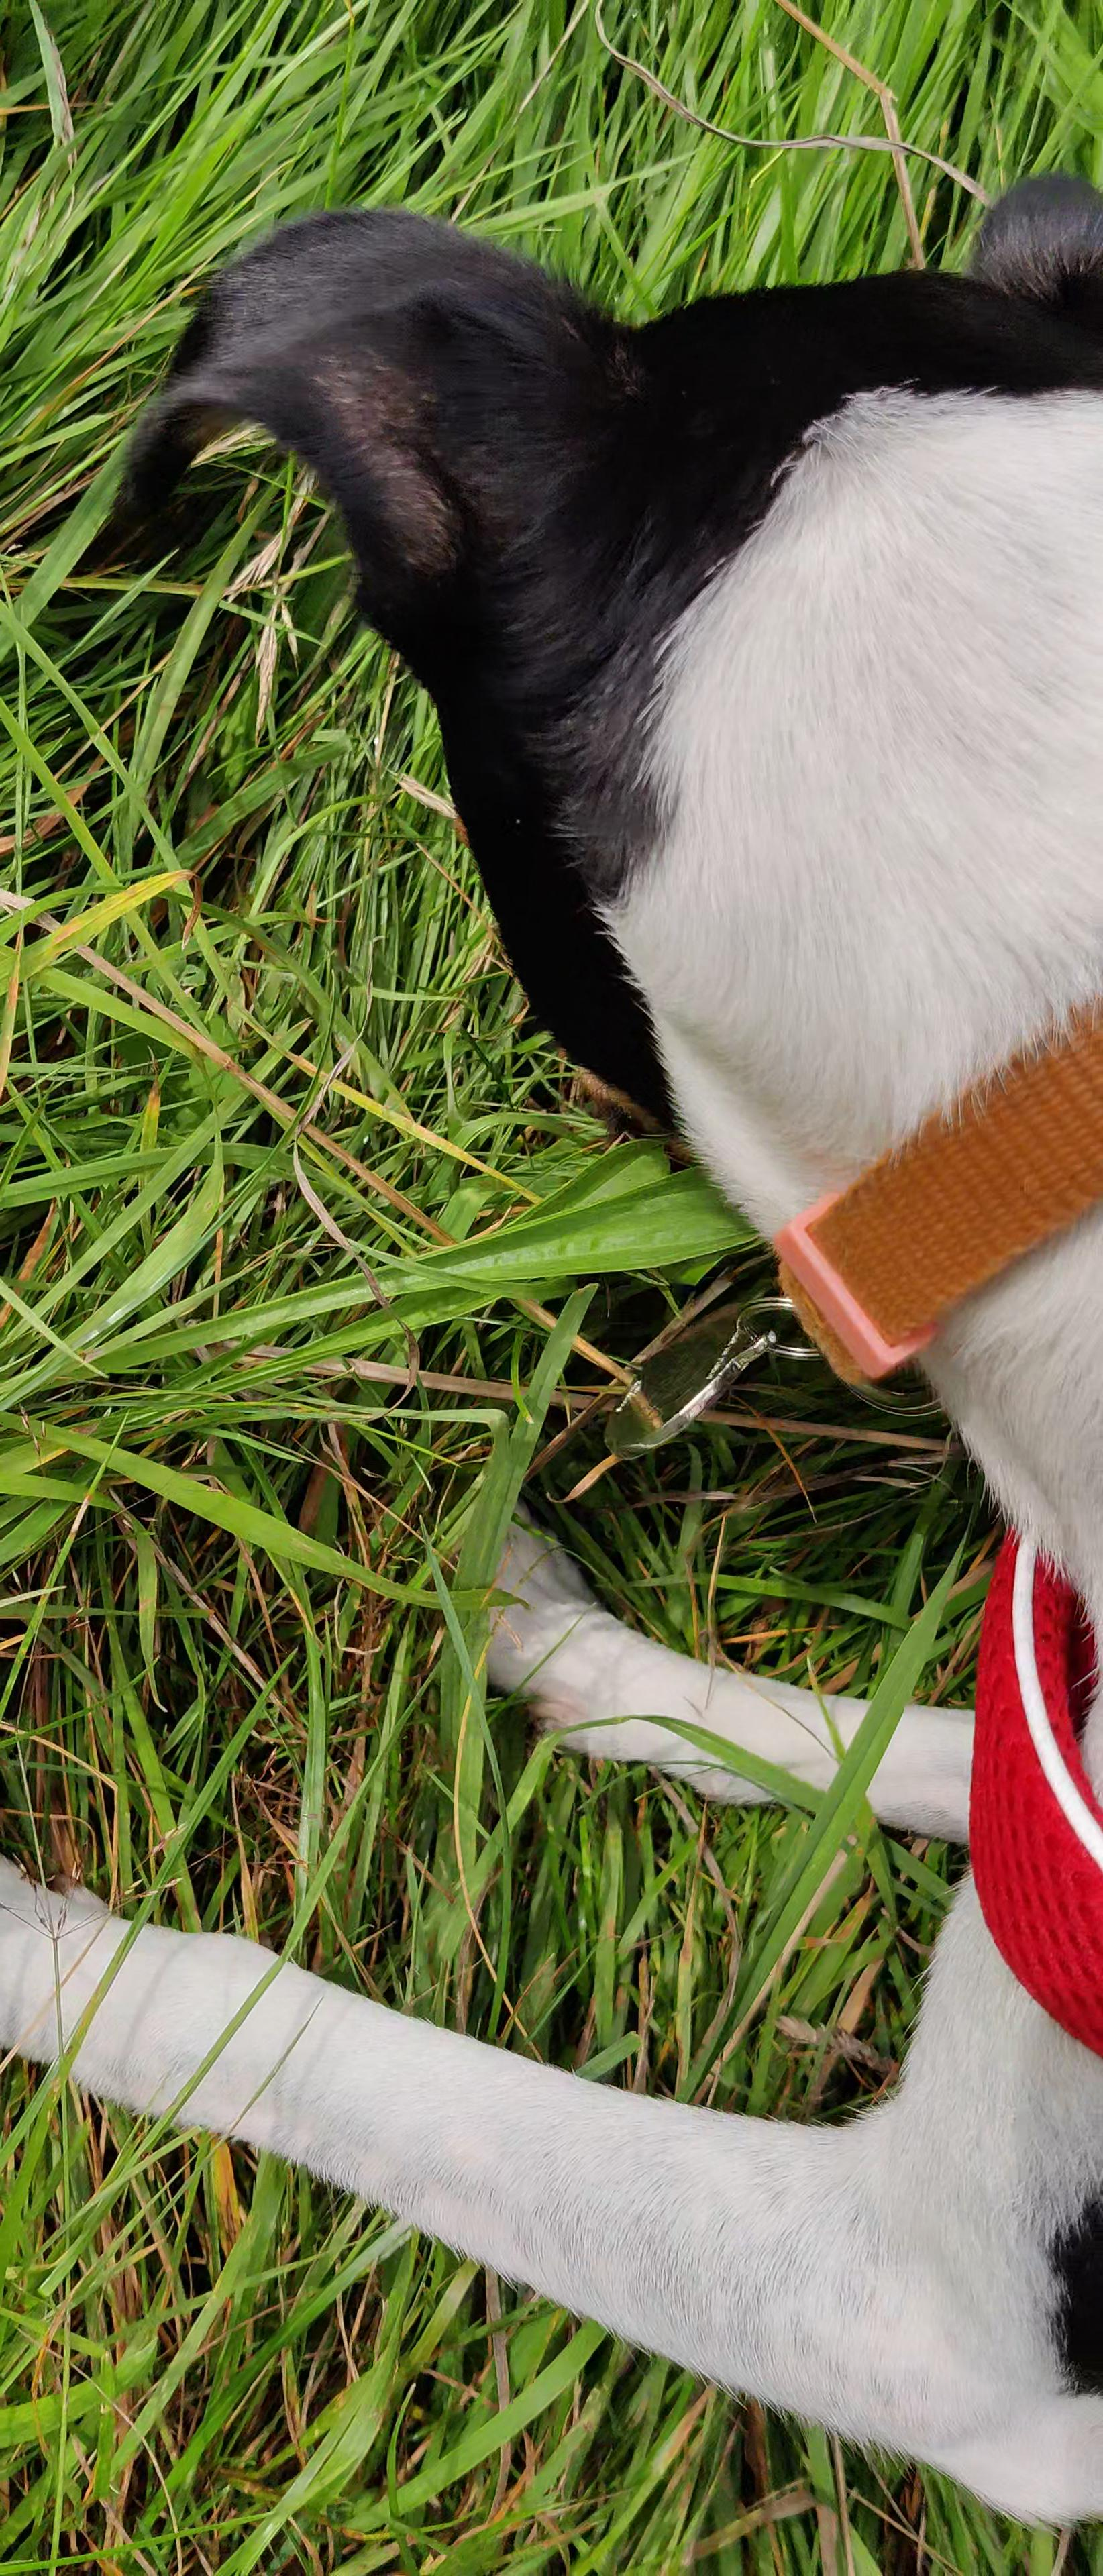Dog: (0, 158, 1103, 2532)
